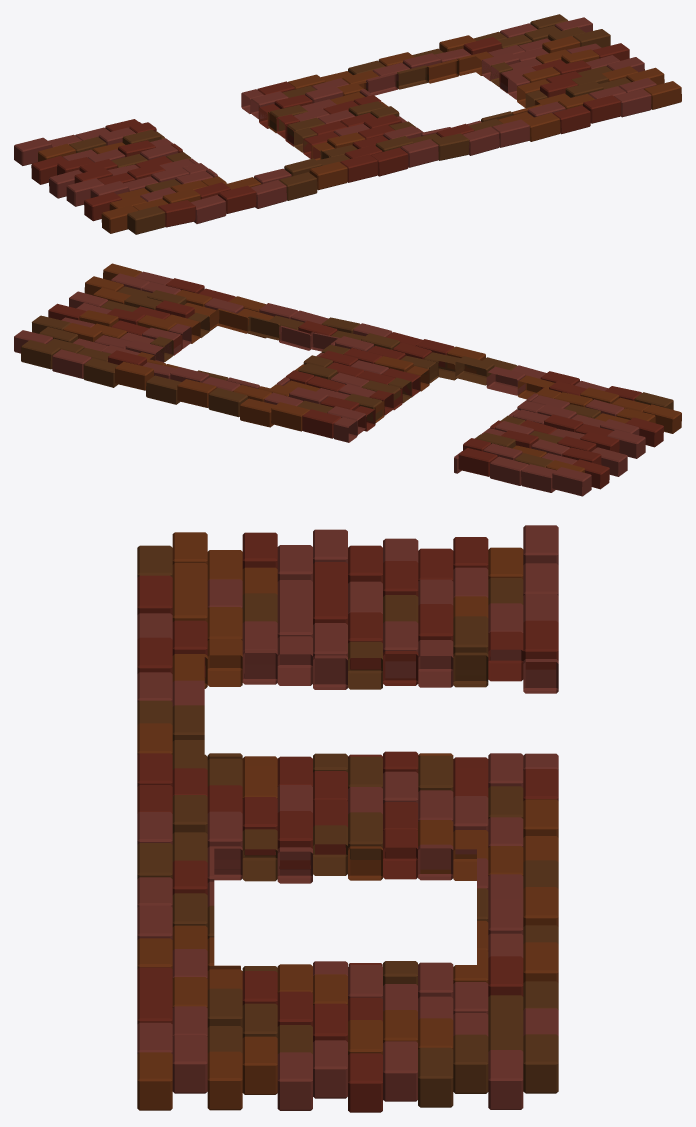
Rendered from brick-wall.glb.
3 views of the same model, one above another, from view 1: azimuth 30°, elevation 25°; view 2: azimuth 150°, elevation 25°; view 3: azimuth 270°, elevation 25° (orthographic). The views are drawn at different scales.
Parts seen in each view (by area): view 1: Recovered Brick Wall; view 2: Recovered Brick Wall; view 3: Recovered Brick Wall.
Part boxes in pixels (<box>): Recovered Brick Wall: <box>14,14,681,234</box>; Recovered Brick Wall: <box>14,263,681,496</box>; Recovered Brick Wall: <box>137,525,558,1112</box>.
Bounding box in the file's own units: 0.1491 × 0.00598 × 0.0482.
